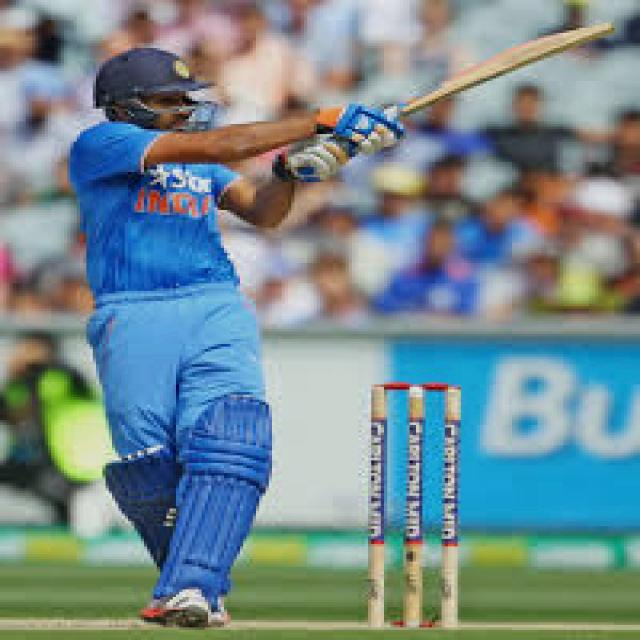toe: (587, 16, 619, 39)
